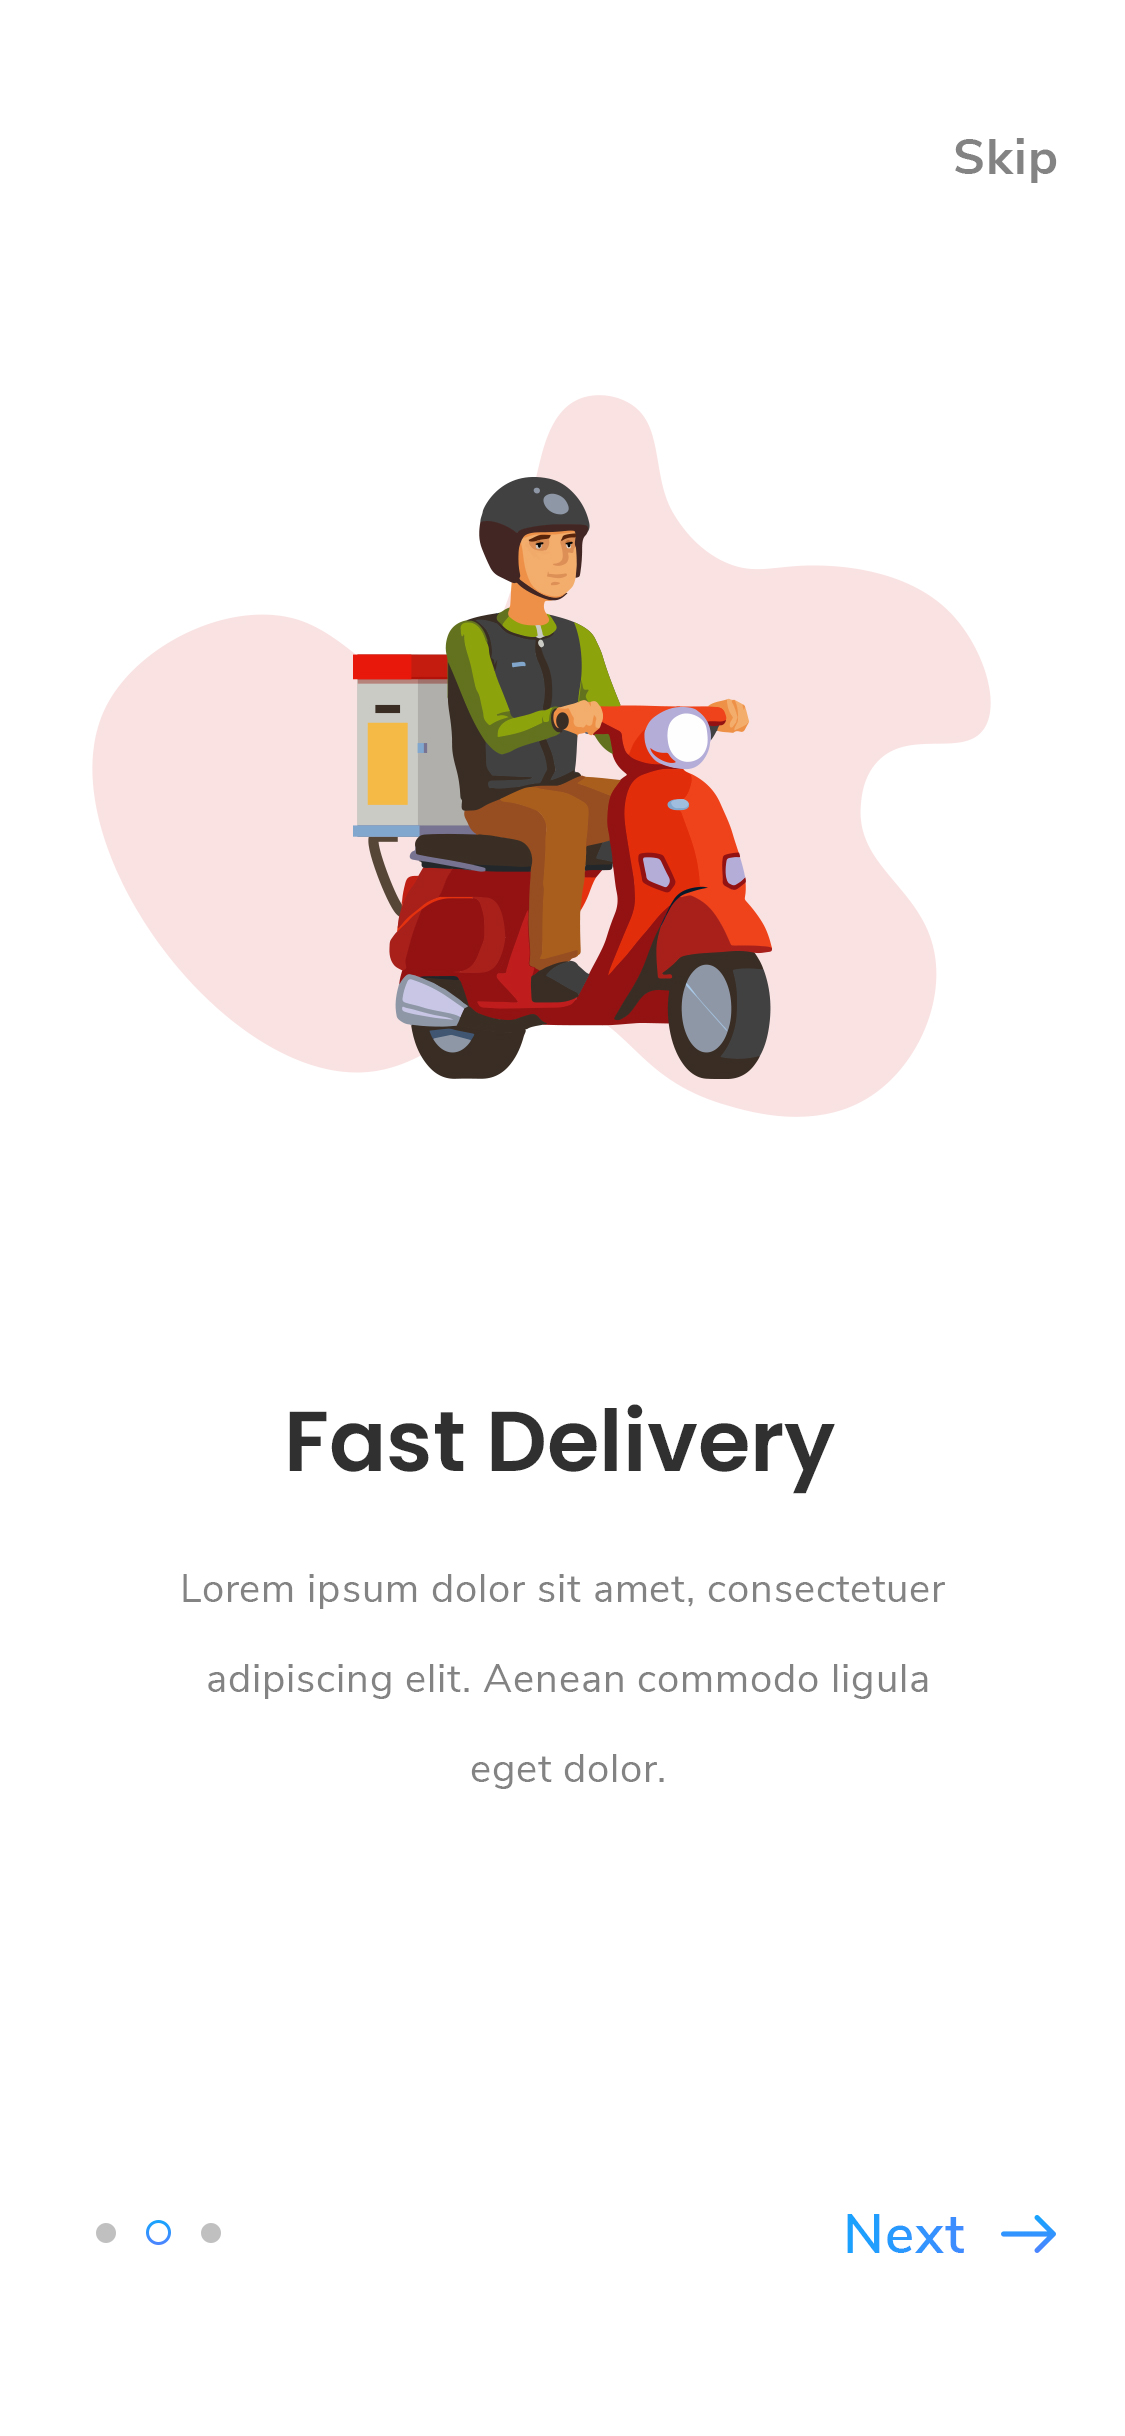Icon: (1001, 2214, 1057, 2254)
Image: (93, 396, 991, 1119)
PageIndicator: (95, 2218, 224, 2246)
Text: (183, 1574, 946, 1790), (289, 1403, 836, 1495), (845, 2212, 965, 2254), (956, 138, 1057, 185)
